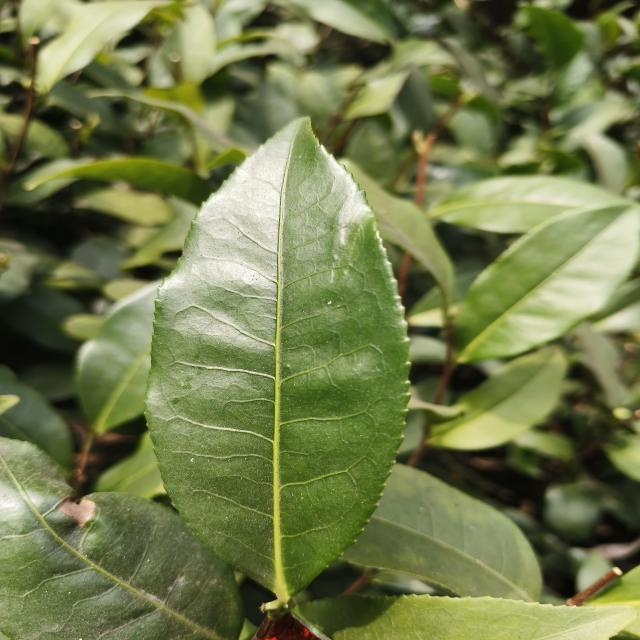Leaf: (146, 119, 409, 600), (0, 438, 243, 640), (455, 205, 640, 362), (343, 464, 542, 601), (343, 160, 454, 303), (303, 595, 636, 640), (429, 347, 566, 450), (76, 280, 161, 435), (37, 0, 169, 92), (429, 175, 631, 233), (25, 157, 213, 207), (0, 365, 74, 471), (0, 284, 82, 351), (543, 482, 600, 539)
